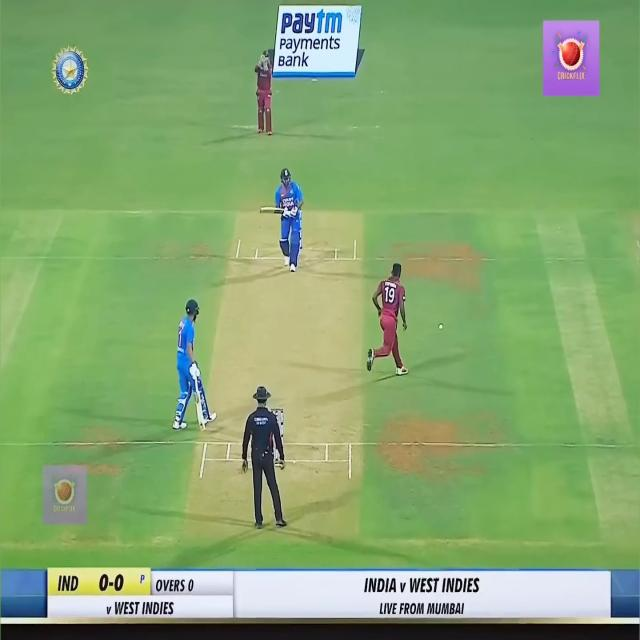fully_visible: (279, 9, 345, 39)
